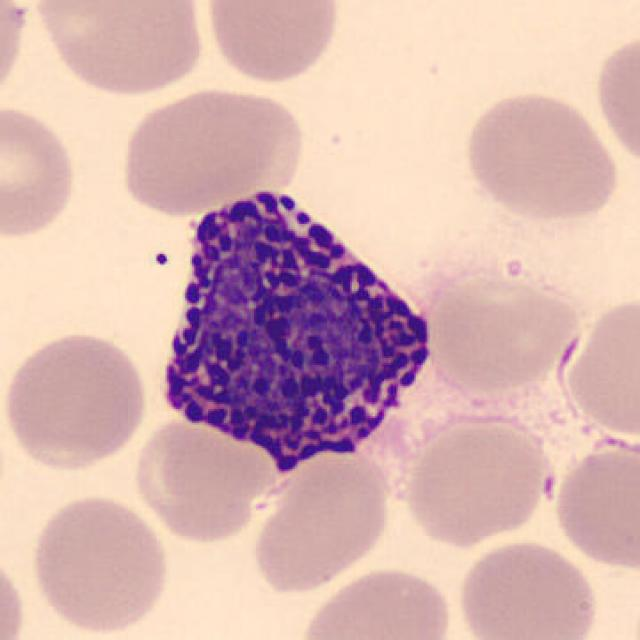Basophil: (142, 174, 450, 485)
RBC: (114, 83, 306, 217), (246, 435, 396, 596), (458, 86, 620, 224), (0, 326, 151, 474), (396, 411, 556, 550), (25, 490, 174, 637), (128, 409, 281, 547), (422, 268, 582, 397), (30, 0, 208, 99), (453, 536, 603, 640), (293, 562, 459, 640), (556, 291, 640, 442), (199, 0, 345, 86), (550, 435, 638, 573), (0, 100, 82, 244), (590, 26, 638, 173), (0, 0, 30, 111), (0, 545, 30, 640)
